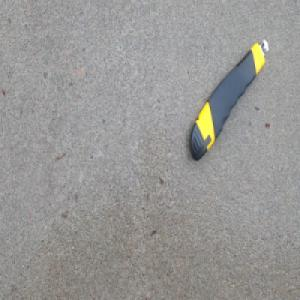Cutter: (187, 40, 268, 165)
